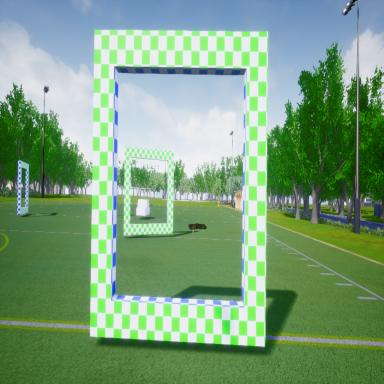gate: (89, 20, 271, 352), (122, 141, 176, 240), (14, 156, 33, 220)
